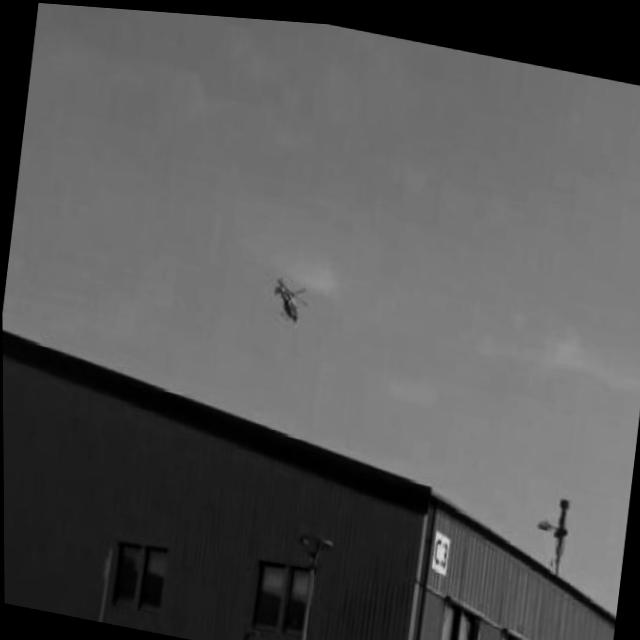helikopter: (263, 263, 316, 325)
